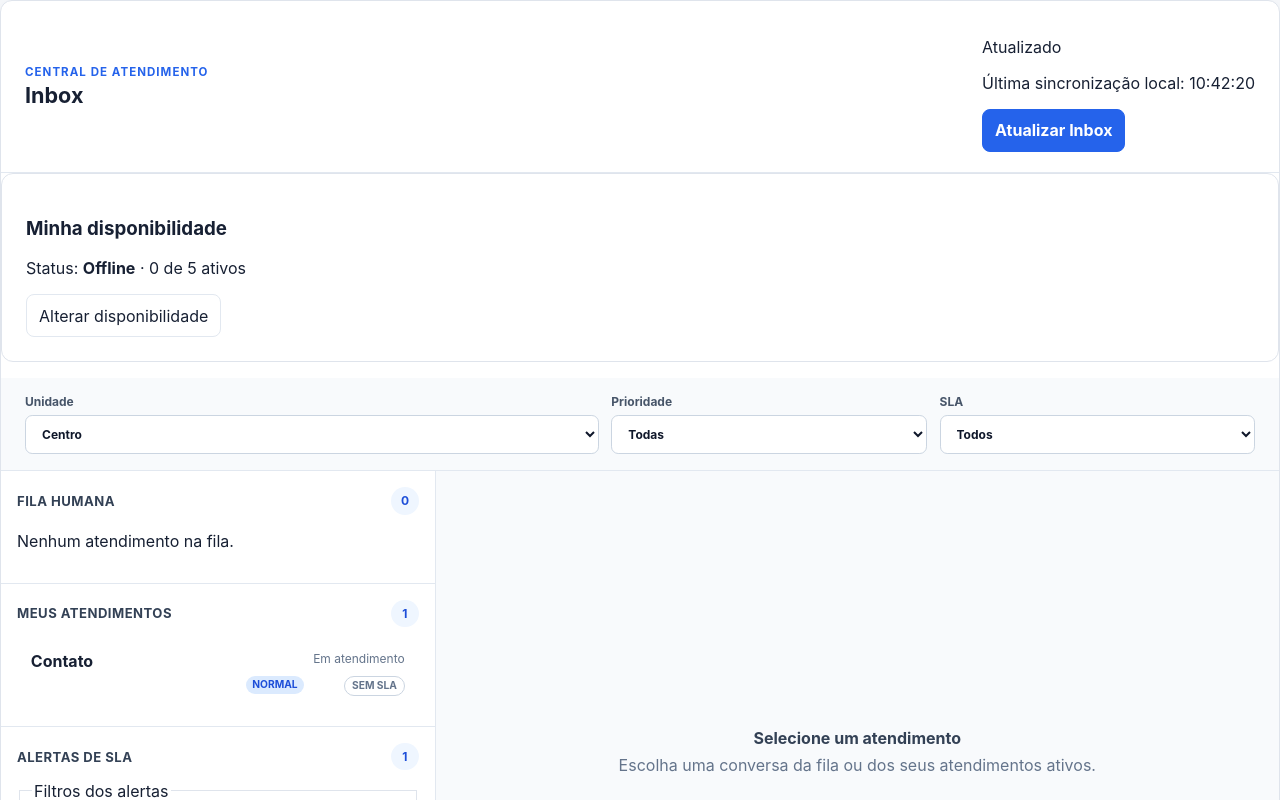
Test: InboxPanel › requeues the owned active handoff with one lock, stable retry key and a fresh SLA alert version
Click the button with aria-label "Contato · Em atendimento". click: {"x": 62, "y": 661}
box: x1=18 y1=638 x2=418 y2=709
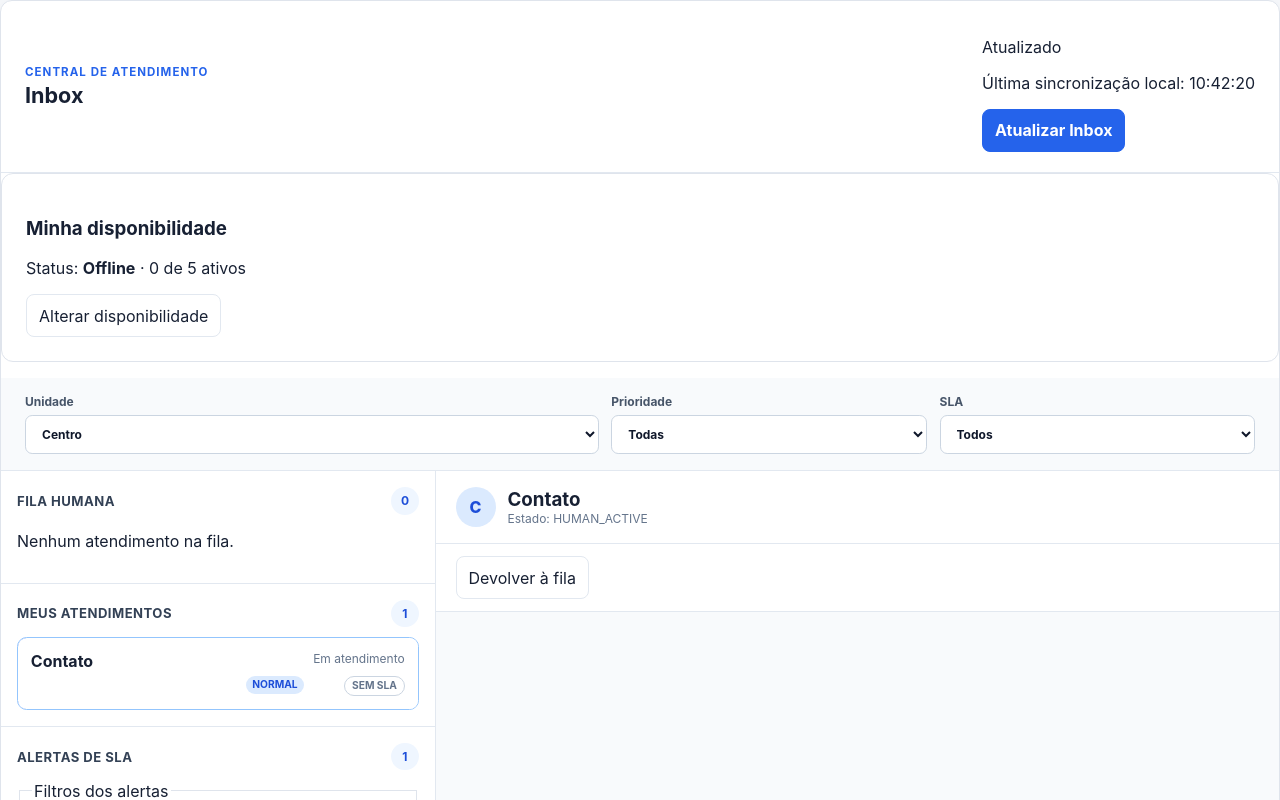
Click the button "Devolver à fila". click: {"x": 522, "y": 578}
box: x1=456 y1=556 x2=589 y2=599
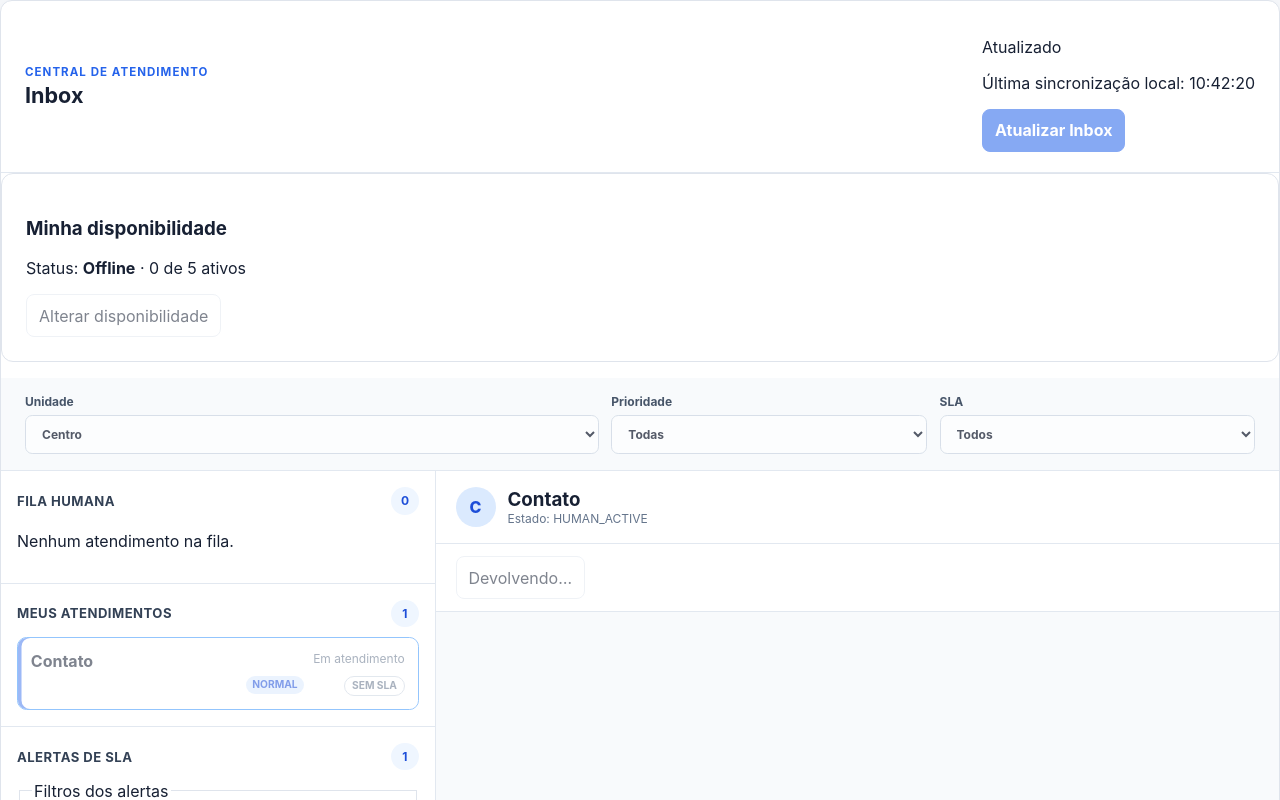
Click the button named "Devolver à fila". click: {"x": 520, "y": 578}
box: x1=456 y1=556 x2=585 y2=599
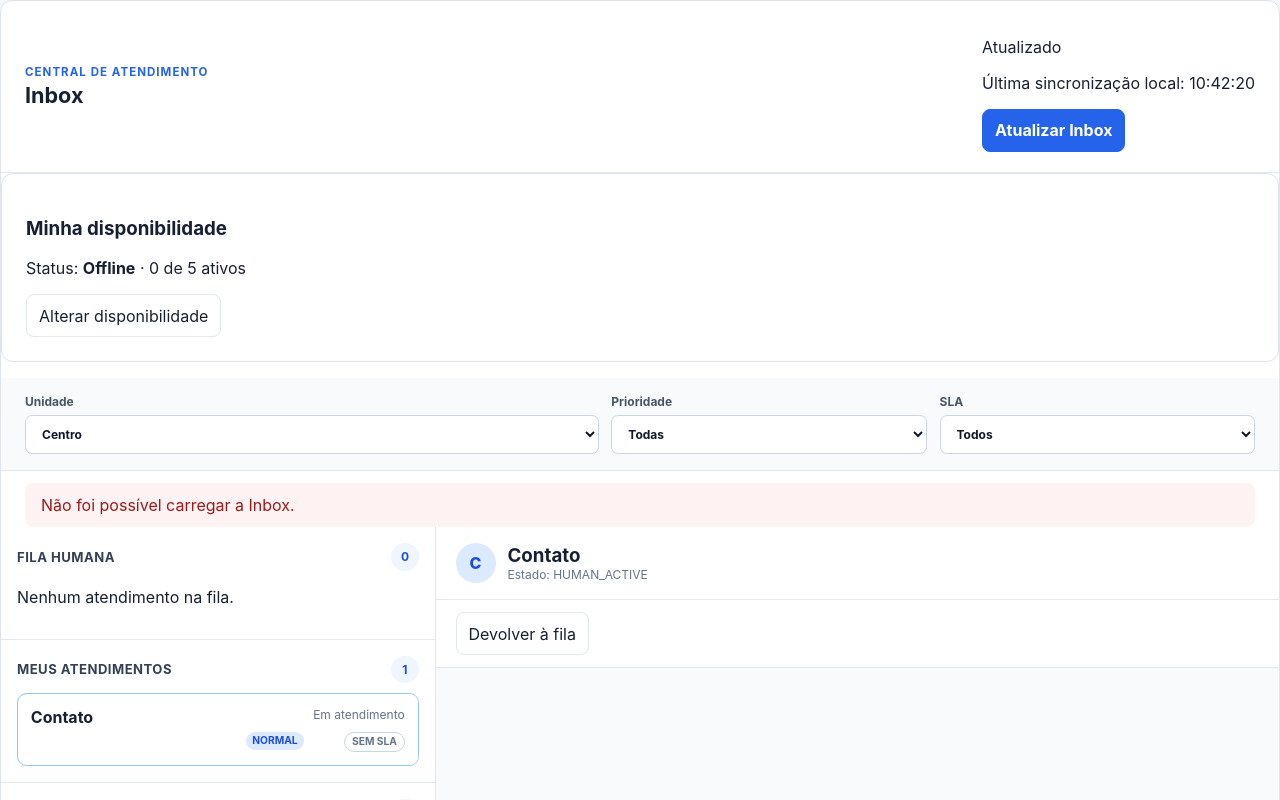
Expected: the message "Não foi possível carregar a Inbox." is shown, x1=25 y1=483 x2=1255 y2=527
Click the button "Devolver à fila". click: {"x": 522, "y": 634}
box: x1=456 y1=612 x2=589 y2=655
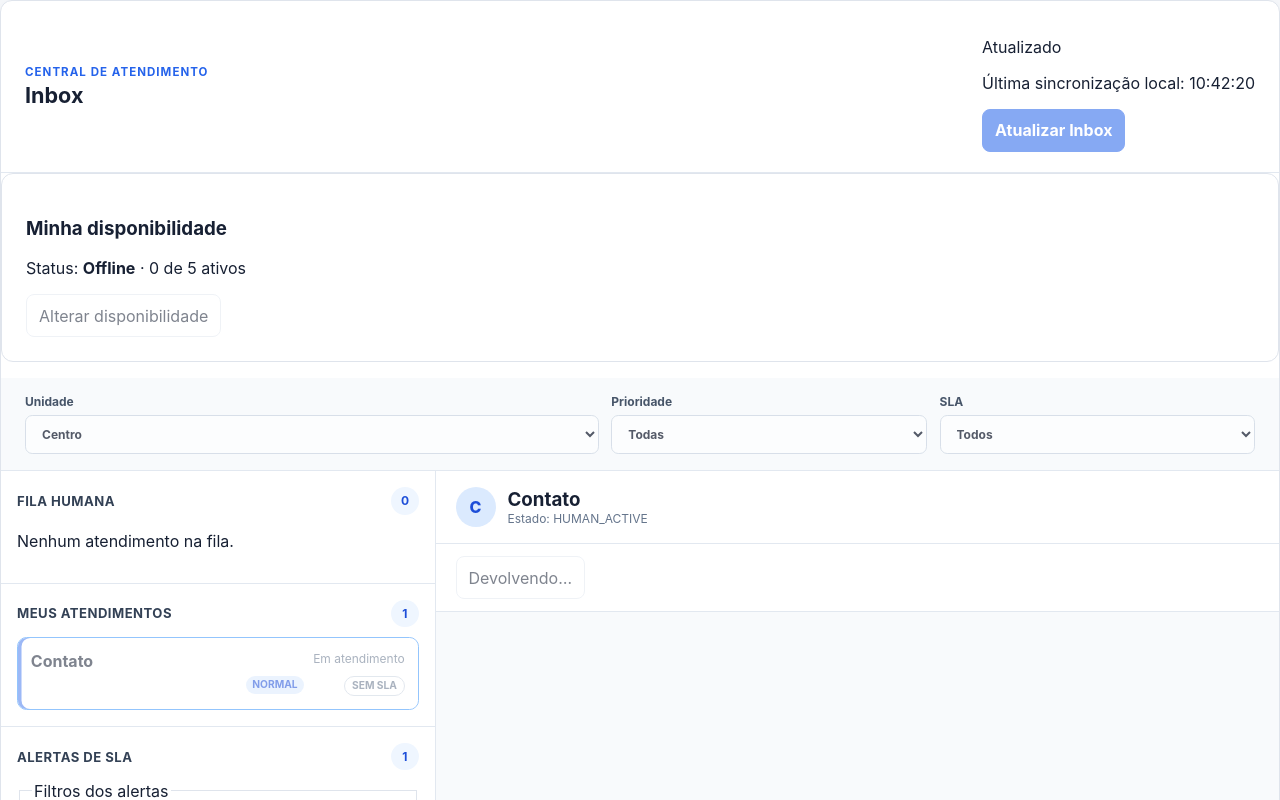
Click the button named "Devolver à fila". click: {"x": 520, "y": 578}
box: x1=456 y1=556 x2=585 y2=599
(page scrolled)
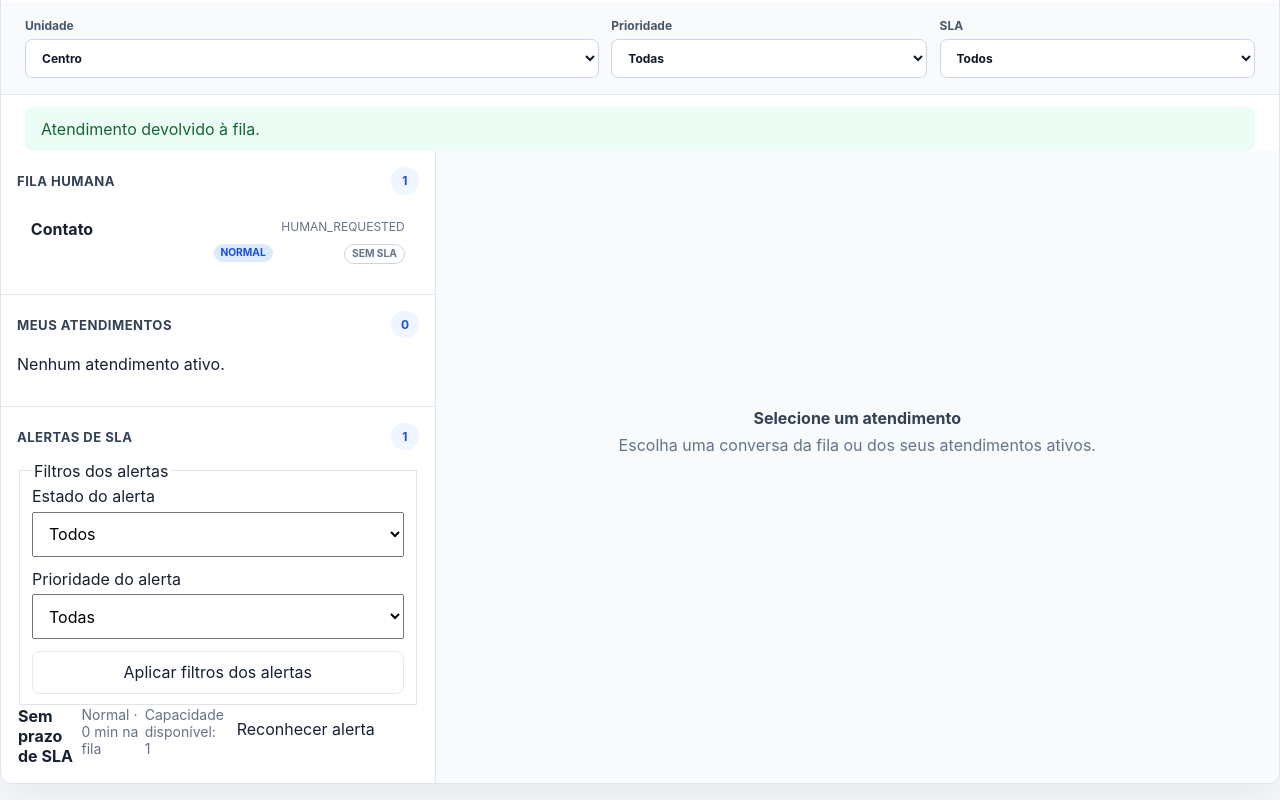
Expected: the text "Atendimento devolvido à fila." is shown, x1=25 y1=107 x2=1255 y2=151
Expected: the button with aria-label "Contato · NORMAL" is shown, x1=18 y1=206 x2=418 y2=277
Expected: the text "Estado: HUMAN_ACTIVE" is gone
